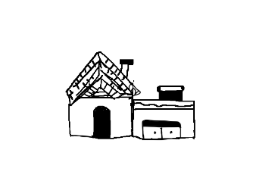chimney: (153, 78, 190, 106), (114, 56, 140, 82)
door: (139, 116, 183, 144), (87, 104, 118, 142)
roof: (61, 50, 141, 102), (128, 97, 198, 112)
small_house: (1, 2, 260, 194)
wall: (65, 93, 136, 143), (132, 106, 198, 145)
